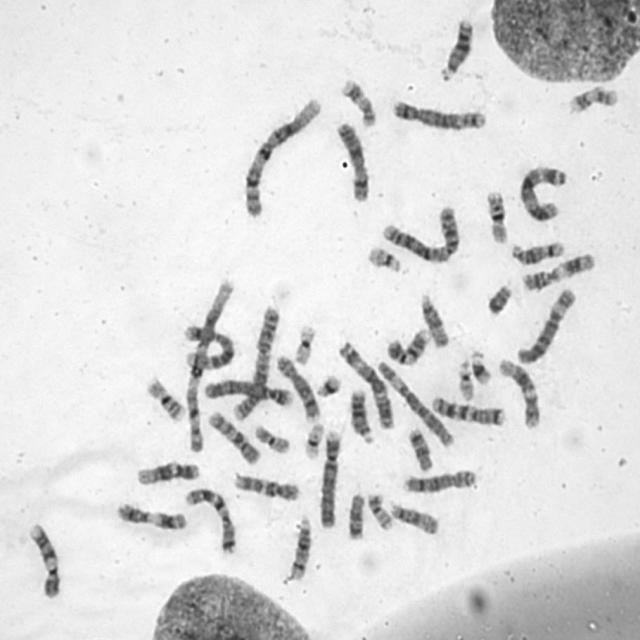A1: (238, 91, 324, 219), (180, 270, 236, 455)
A2: (229, 301, 282, 423), (377, 200, 461, 264)
A3: (334, 335, 396, 431), (514, 159, 569, 223)
B4: (198, 373, 294, 408), (314, 424, 343, 530)
B5: (387, 93, 488, 132), (179, 318, 236, 372)
C10: (203, 404, 263, 466), (229, 468, 302, 502)
C11: (517, 246, 598, 293), (112, 497, 189, 532)
C12: (494, 352, 542, 430), (132, 455, 202, 486)
C6: (372, 354, 456, 449), (513, 282, 578, 365)
C7: (180, 482, 238, 556), (427, 390, 506, 427)
C8: (271, 348, 322, 422), (398, 464, 479, 494)
C9: (24, 516, 63, 600), (382, 322, 432, 368)
D13: (434, 12, 476, 82), (344, 383, 376, 444)
D14: (284, 510, 314, 582), (506, 235, 566, 266)
D15: (385, 496, 441, 536), (415, 288, 451, 350)
E16: (142, 372, 186, 423), (481, 184, 511, 245)
E17: (337, 72, 378, 129), (563, 79, 620, 115)
E18: (403, 422, 435, 472), (343, 488, 367, 541)
F19: (288, 318, 318, 366), (300, 418, 326, 460)
F20: (250, 420, 292, 455), (362, 488, 395, 532)
G21: (466, 344, 493, 386), (311, 369, 343, 398)
G22: (363, 240, 403, 273), (453, 355, 477, 402)
X: (332, 115, 371, 204)
Y: (482, 279, 514, 317)
